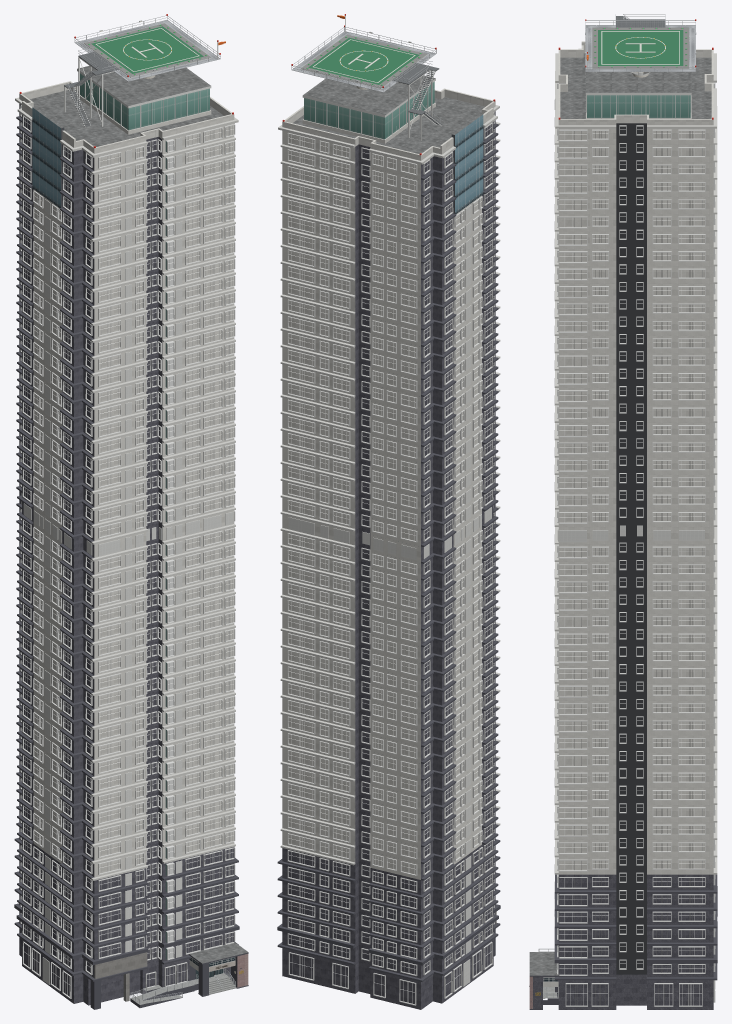
Rendered from HighriseTower103_L1_5x4.fbx.
3 renders of one model, left to right at view 1: azimuth 30°, elevation 25°; view 2: azimuth 150°, elevation 25°; view 3: azimuth 270°, elevation 25°, orthographic. The views are drawn at different scales.
Visible parts, largest first — view 1: HighriseTower103_L1_5x4; view 2: HighriseTower103_L1_5x4; view 3: HighriseTower103_L1_5x4.
Part boxes in pixels (x1,y1,x2,y2): HighriseTower103_L1_5x4: (14,14,248,1009); HighriseTower103_L1_5x4: (277,14,500,1009); HighriseTower103_L1_5x4: (529,14,717,1009).
Bounding box in the file's own units: 2890 × 16182 × 2887.
1 material, 1 textured.
